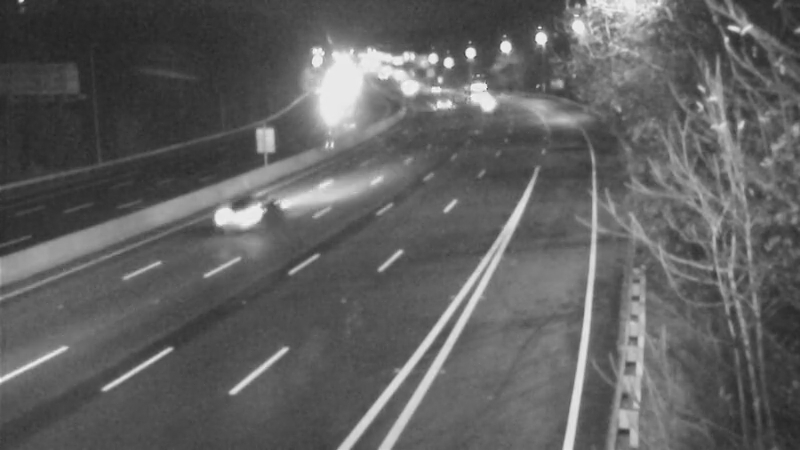vehicle: (197, 168, 277, 248), (461, 75, 511, 125), (414, 72, 464, 122)
